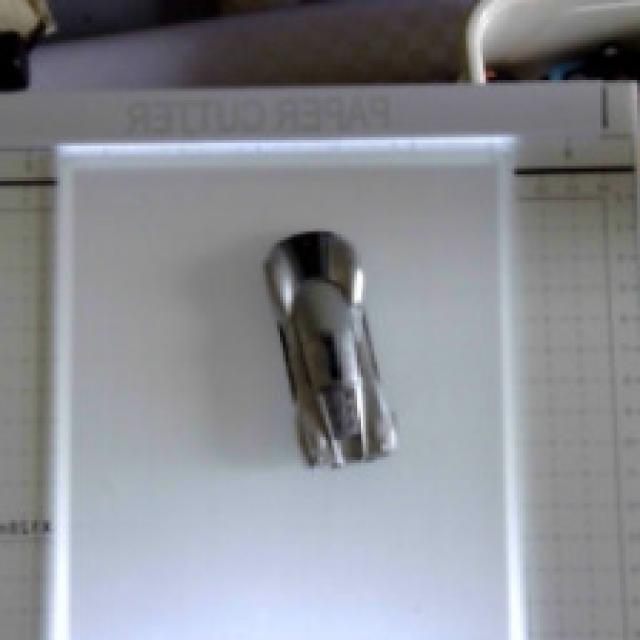Grey Car: (223, 203, 443, 508)
